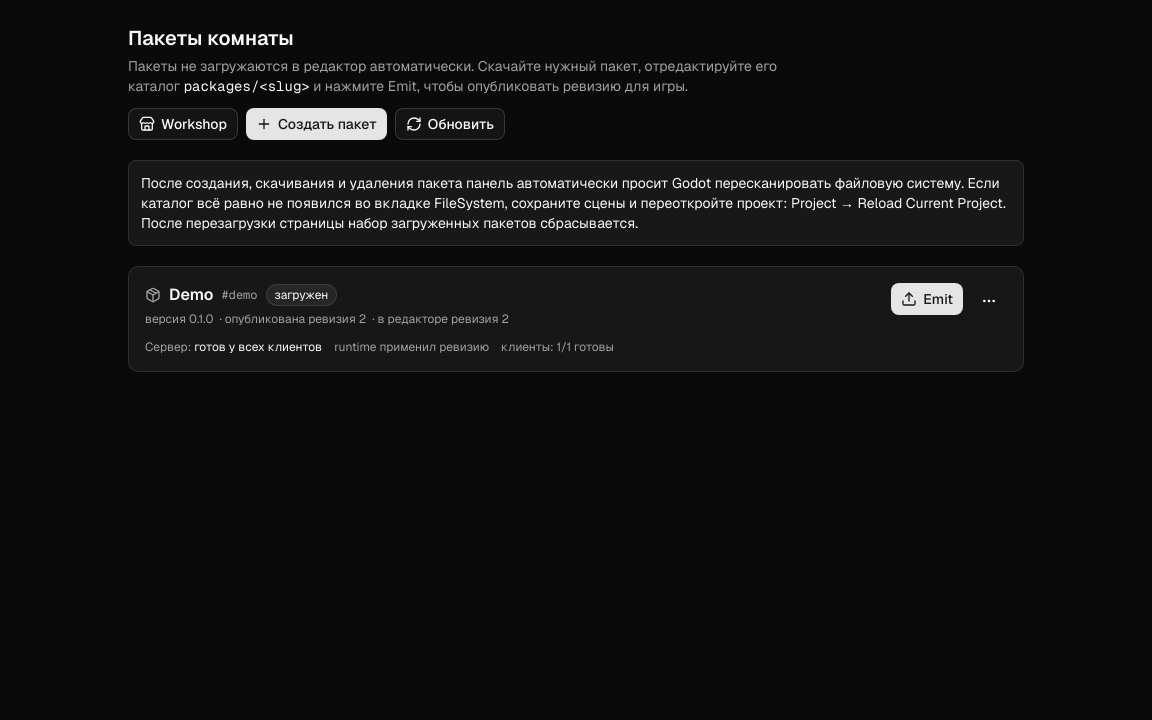
Scenario: PackagesTab › opens the workshop browser in a dialog
Click the button "Workshop" at (183, 124), box [128,108,238,140]
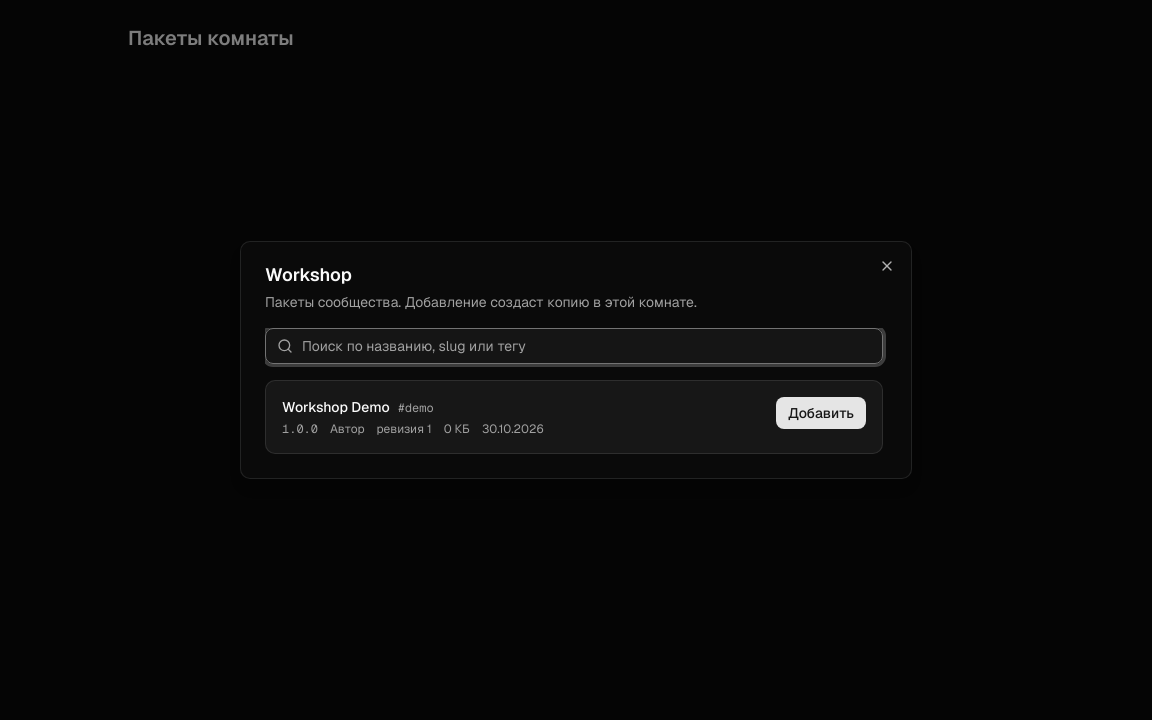
Expected: the text "Пакеты сообщества. Добавление создаст копию в этой комнате." is shown, [265,293,697,311]
Expected: the field named "Поиск пакетов" is shown, [265,328,883,364]
Expected: the button "Добавить" is shown, [776,397,866,429]
